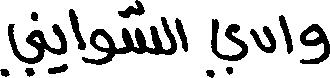X: (0, 7, 45, 77), (211, 14, 246, 77), (124, 0, 159, 59), (302, 19, 329, 68), (87, 24, 114, 69), (162, 12, 187, 59), (70, 4, 85, 67), (251, 21, 274, 57), (55, 19, 66, 77), (279, 10, 291, 58)
